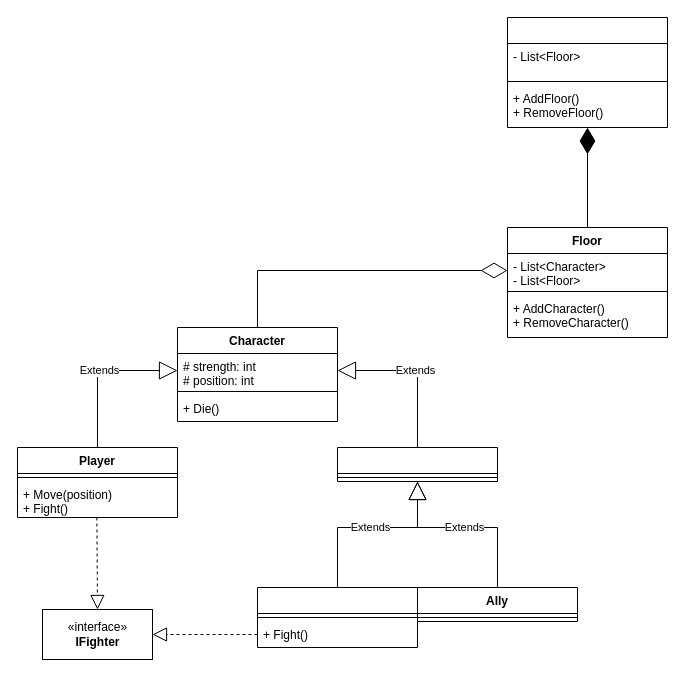
Some shapes in this 685 by 677 pixel diagram are drawn without their labels. The box of each missing label's shape, as (x1, y1, x2, y2) in pixels:
Enemy: (256, 586, 418, 648)
Obstacle: (336, 446, 498, 482)
Tower: (506, 16, 668, 128)
